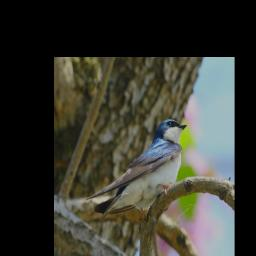Swallow: (85, 118, 187, 226)
